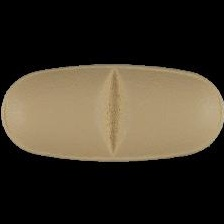68462-138: (0, 0, 224, 224)
